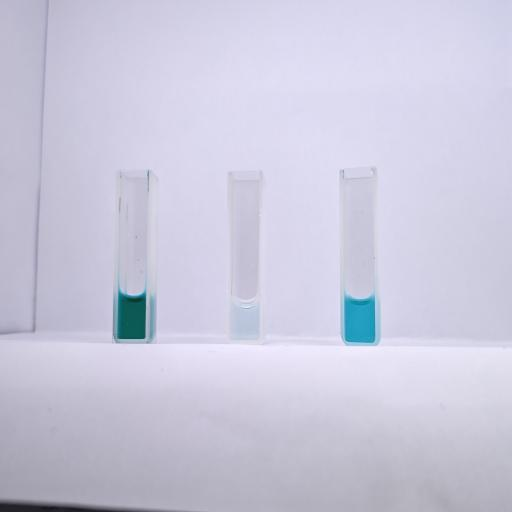cuvette: (337, 164, 383, 347), (110, 167, 154, 345), (226, 170, 266, 346)
liquid: (344, 294, 375, 342), (118, 292, 146, 339), (231, 296, 259, 341)
